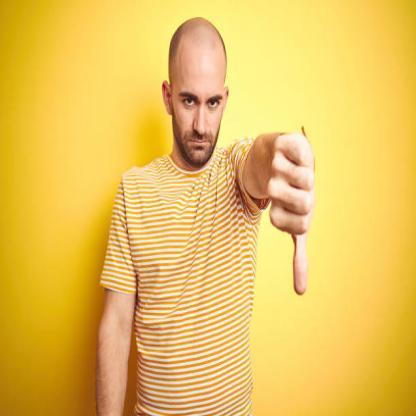thumb_down: (264, 128, 324, 297)
